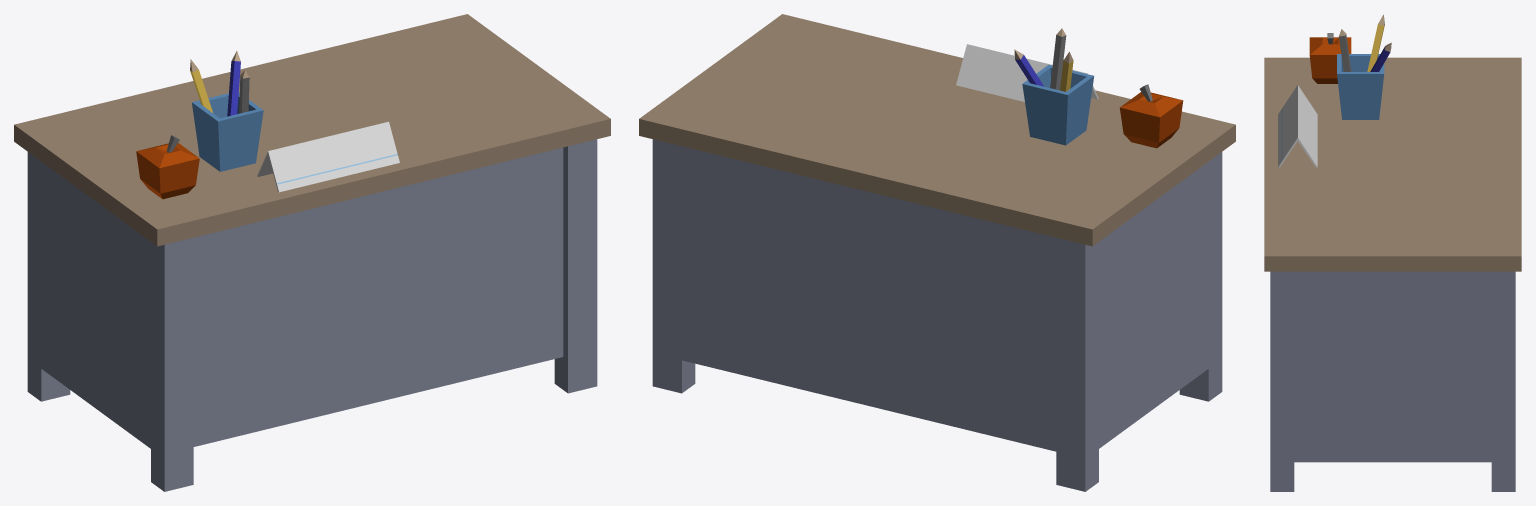
File: classroom_teacherdesk.fbx
The picture shows the model from 3 angles, left to right: view 1: azimuth 30°, elevation 25°; view 2: azimuth 150°, elevation 25°; view 3: azimuth 270°, elevation 25°; orthographic projection. The views are drawn at different scales.
Parts seen in each view (by area): view 1: pCube14; view 2: pCube14; view 3: pCube14.
Part boxes in pixels (x1,y1,x2,y2): pCube14: [14, 14, 610, 491]; pCube14: [639, 14, 1235, 491]; pCube14: [1264, 14, 1521, 491].
Bounding box in the file's own units: 3.79 × 2.91 × 2.07.
